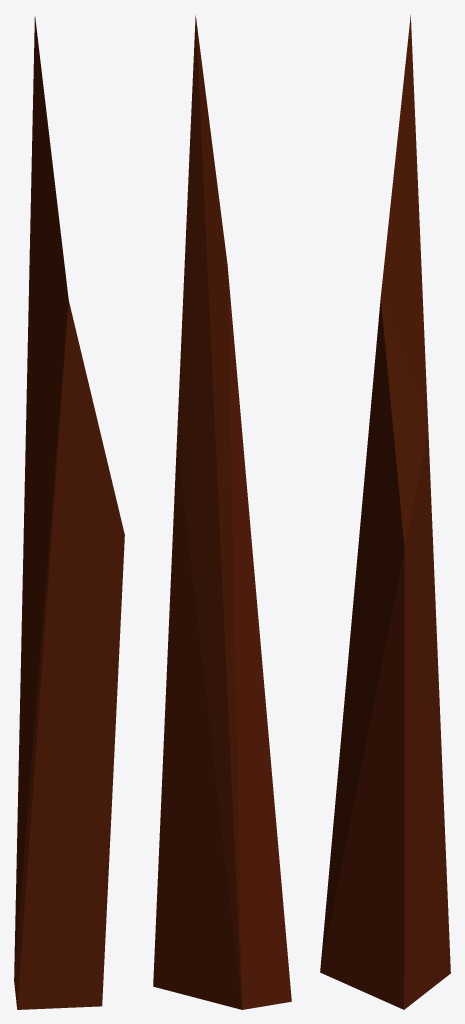
File: pike.fbx
3 views of the same model, side by side, from view 1: azimuth 30°, elevation 25°; view 2: azimuth 150°, elevation 25°; view 3: azimuth 330°, elevation 25° (orthographic). The views are drawn at different scales.
Visible parts, largest first — view 1: pike; view 2: pike; view 3: pike.
Part boxes in pixels (x1,y1,x2,y2): pike: (14, 16, 124, 1009); pike: (153, 15, 291, 1009); pike: (320, 15, 450, 1009).
Size of the model in its own units: 128 by 1108 by 99.34.
